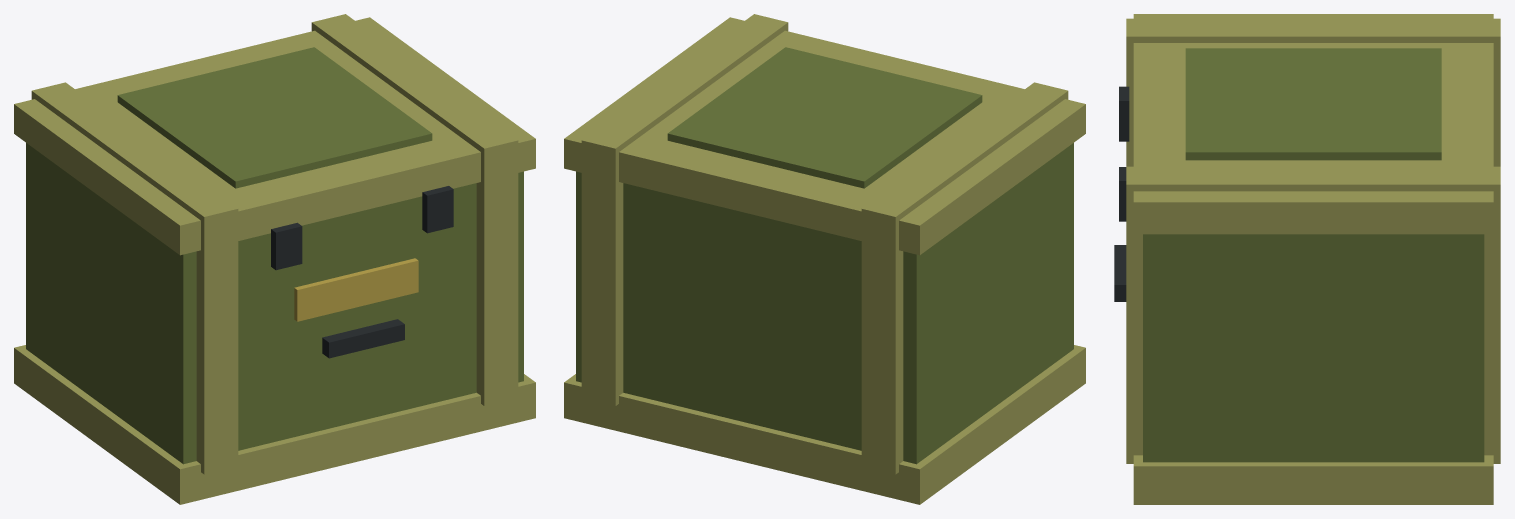
Rendered from CMU3DAmmoCrate.glb.
3 renders of one model, left to right at view 1: azimuth 30°, elevation 25°; view 2: azimuth 150°, elevation 25°; view 3: azimuth 270°, elevation 25°, orthographic. The views are drawn at different scales.
Visible parts, largest first — view 1: crate body, reinforcing strap (×2), lid, lid inset, lower rail, ammo stencil, front latch (×2), front handle; view 2: crate body, reinforcing strap (×2), lid, lid inset, lower rail; view 3: crate body, lid, reinforcing strap (×2), lid inset, lower rail, front latch (×2), front handle.
Boxes of the visible parts, x1,y1,x2,y2 form: crate body: (26,143,523,464); reinforcing strap (×2): (31,14,518,474); lid: (14,17,535,255); lid inset: (117,47,432,188); lower rail: (14,345,535,504); ammo stencil: (294,258,418,321); front latch (×2): (271,186,453,270); front handle: (322,319,404,358); crate body: (576,143,1073,464); reinforcing strap (×2): (581,14,1068,474); lid: (564,17,1085,255); lid inset: (667,47,982,188); lower rail: (564,345,1085,504); crate body: (1143,234,1484,462); lid: (1133,14,1493,234); reinforcing strap (×2): (1126,18,1500,463); lid inset: (1185,48,1441,160); lower rail: (1133,455,1493,504); front latch (×2): (1119,86,1129,221); front handle: (1114,245,1126,301).
Size of the model in its own units: 0.94 by 0.723 by 0.816.
